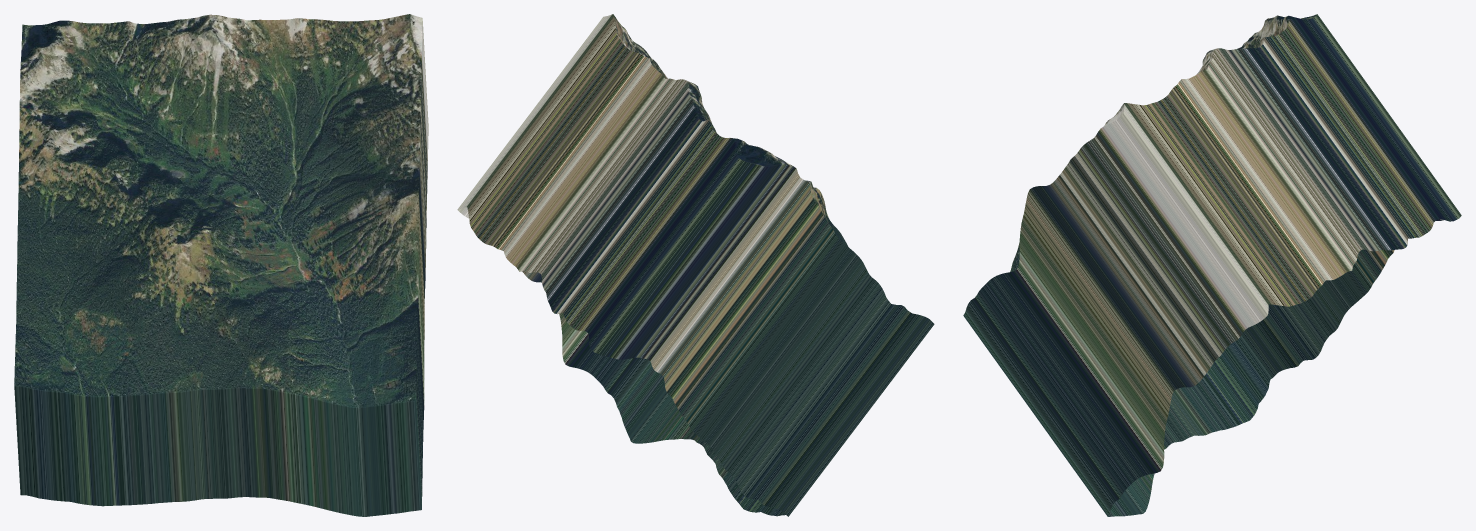
3 renders of one model, left to right at view 1: azimuth 30°, elevation 25°; view 2: azimuth 150°, elevation 25°; view 3: azimuth 270°, elevation 25°, orthographic. The views are drawn at different scales.
Bounding box in the file's own units: 5859 × 5670 × 6032.
1 material, 1 textured.
